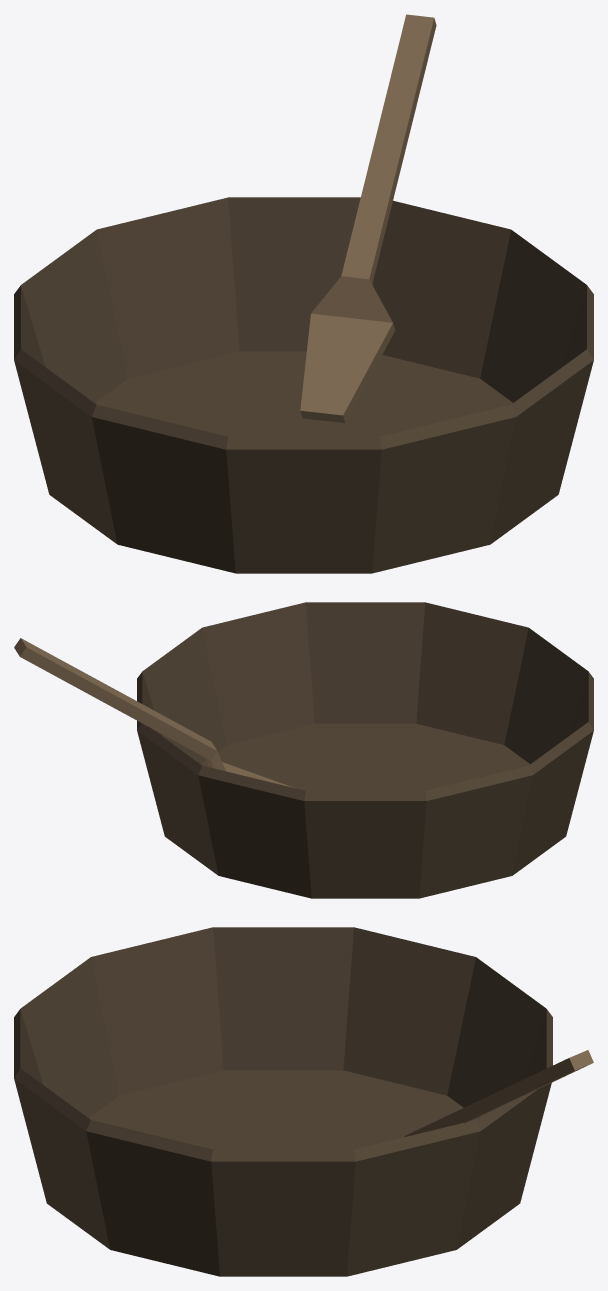
Rendered from Plate_5_Brown.fbx.
3 views of the same model, one above another, from view 1: azimuth 30°, elevation 25°; view 2: azimuth 150°, elevation 25°; view 3: azimuth 270°, elevation 25° (orthographic). The views are drawn at different scales.
Parts seen in each view (by area): view 1: Plate_5_Brown_Part_1, Plate_5_Brown_Part_2; view 2: Plate_5_Brown_Part_1, Plate_5_Brown_Part_2; view 3: Plate_5_Brown_Part_1, Plate_5_Brown_Part_2.
Part boxes in pixels (left/top/right/bottom): Plate_5_Brown_Part_1: left=14, top=197, right=593, bottom=573; Plate_5_Brown_Part_2: left=300, top=14, right=436, bottom=422; Plate_5_Brown_Part_1: left=137, top=602, right=593, bottom=898; Plate_5_Brown_Part_2: left=14, top=638, right=293, bottom=787; Plate_5_Brown_Part_1: left=14, top=927, right=552, bottom=1276; Plate_5_Brown_Part_2: left=403, top=1050, right=593, bottom=1137.
Bounding box in the file's own units: 30.18 × 14.22 × 30.18.
